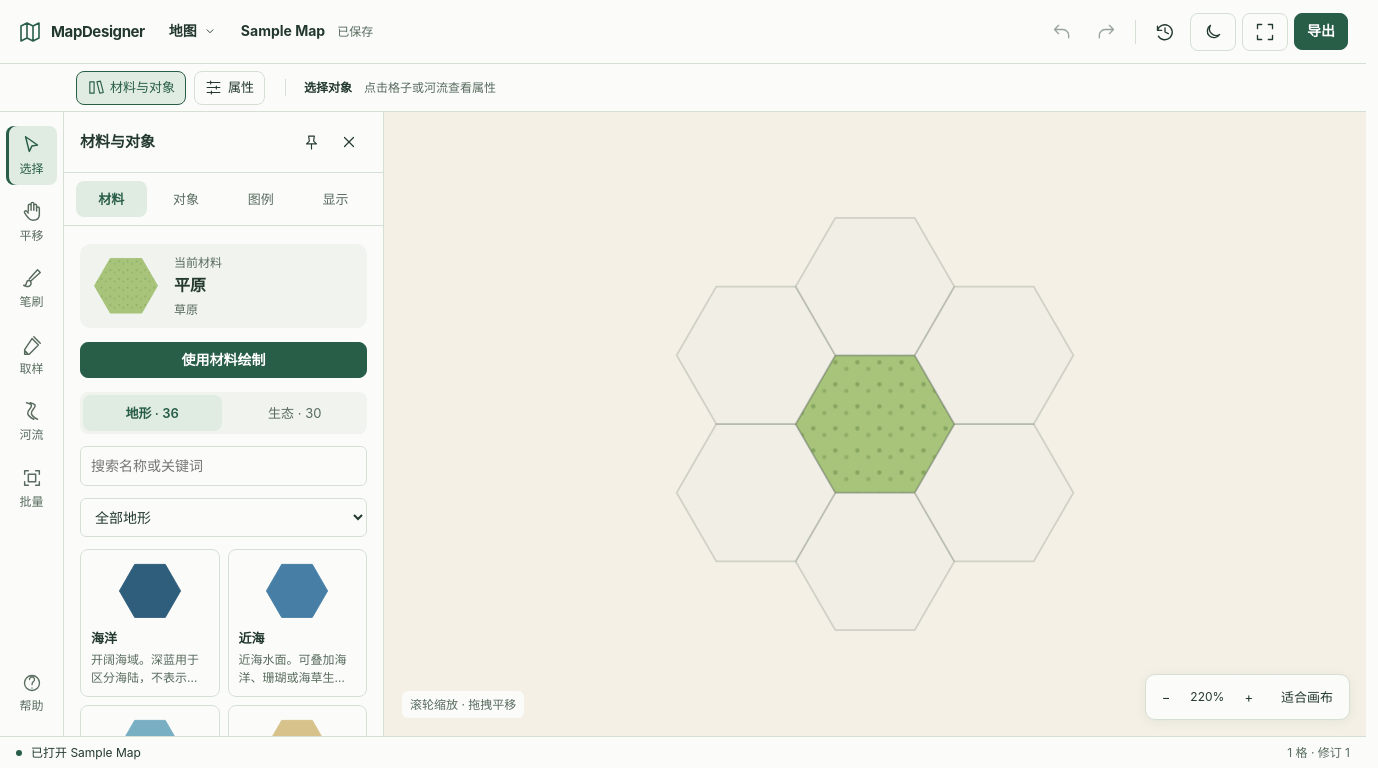
Test: App › creates a river overlay from the detail panel
This screenshot has width=1378, height=768.
Expected: the text "已打开 Sample Map" is shown, [31,744,141,761]
Click the button "河流".
click(32, 422)  # box [6,392,57,451]
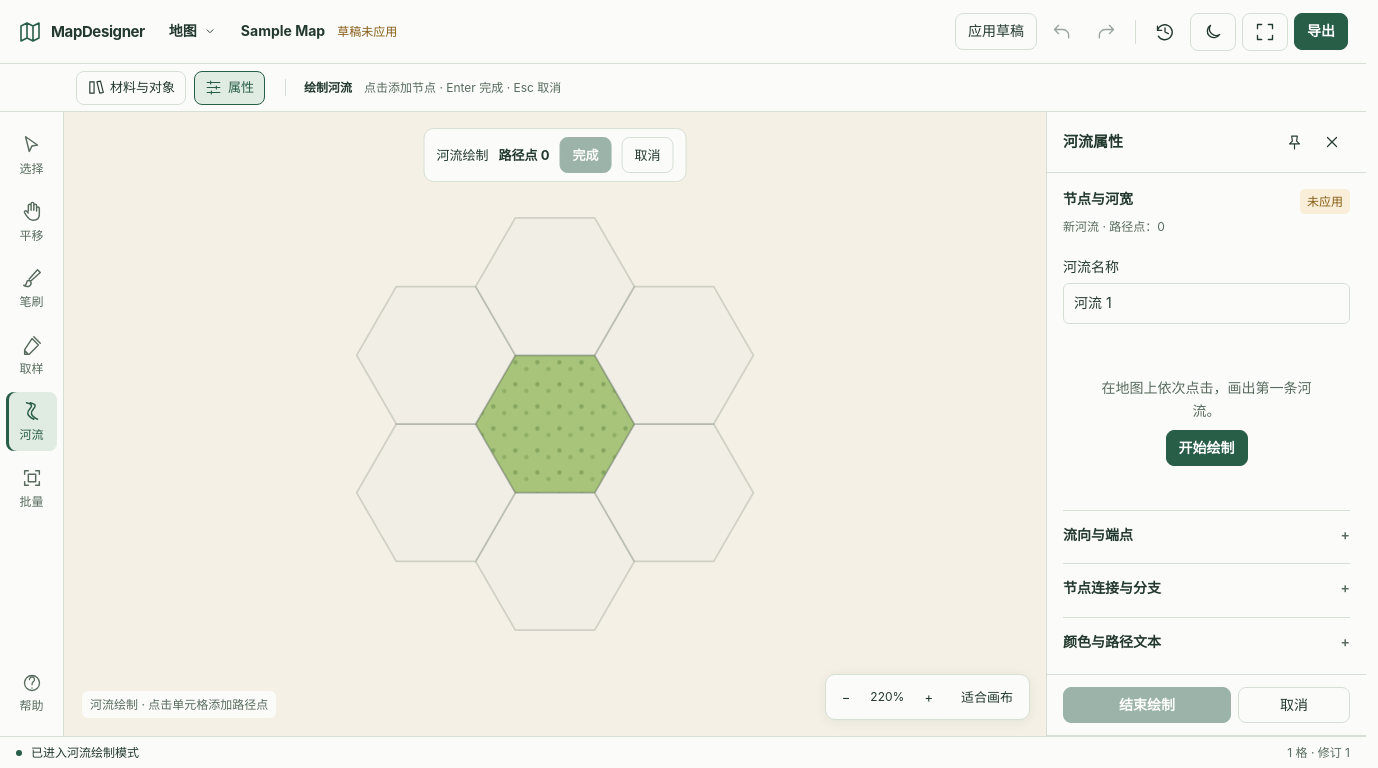
Click the 1st button "取消".
click(647, 155)  # box [621,137,673,173]
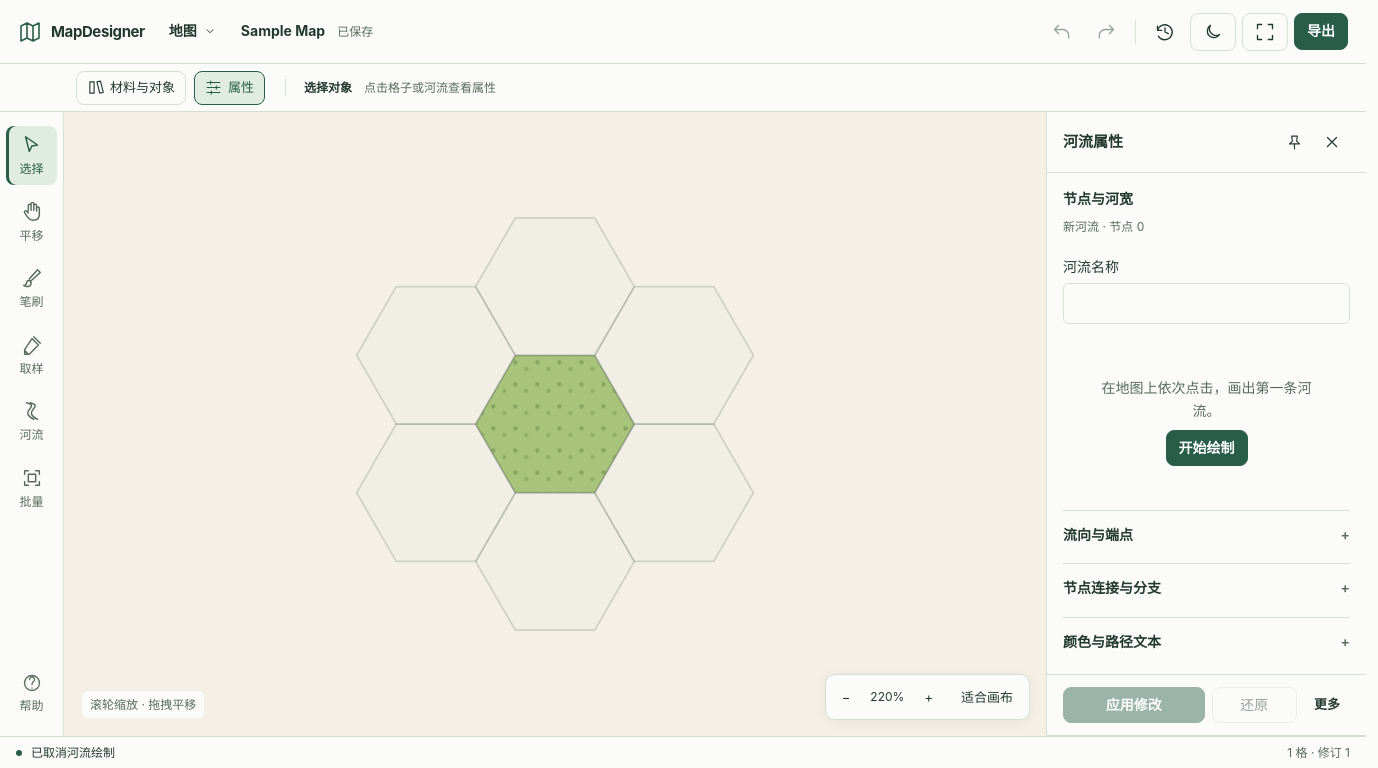
Expected: the element "节点与河宽" is shown, [1047,173,1366,736]
Type "Main River" into the field labelled "河流名称".
click(1206, 304); type("Main River")  # box [1063,283,1350,324]
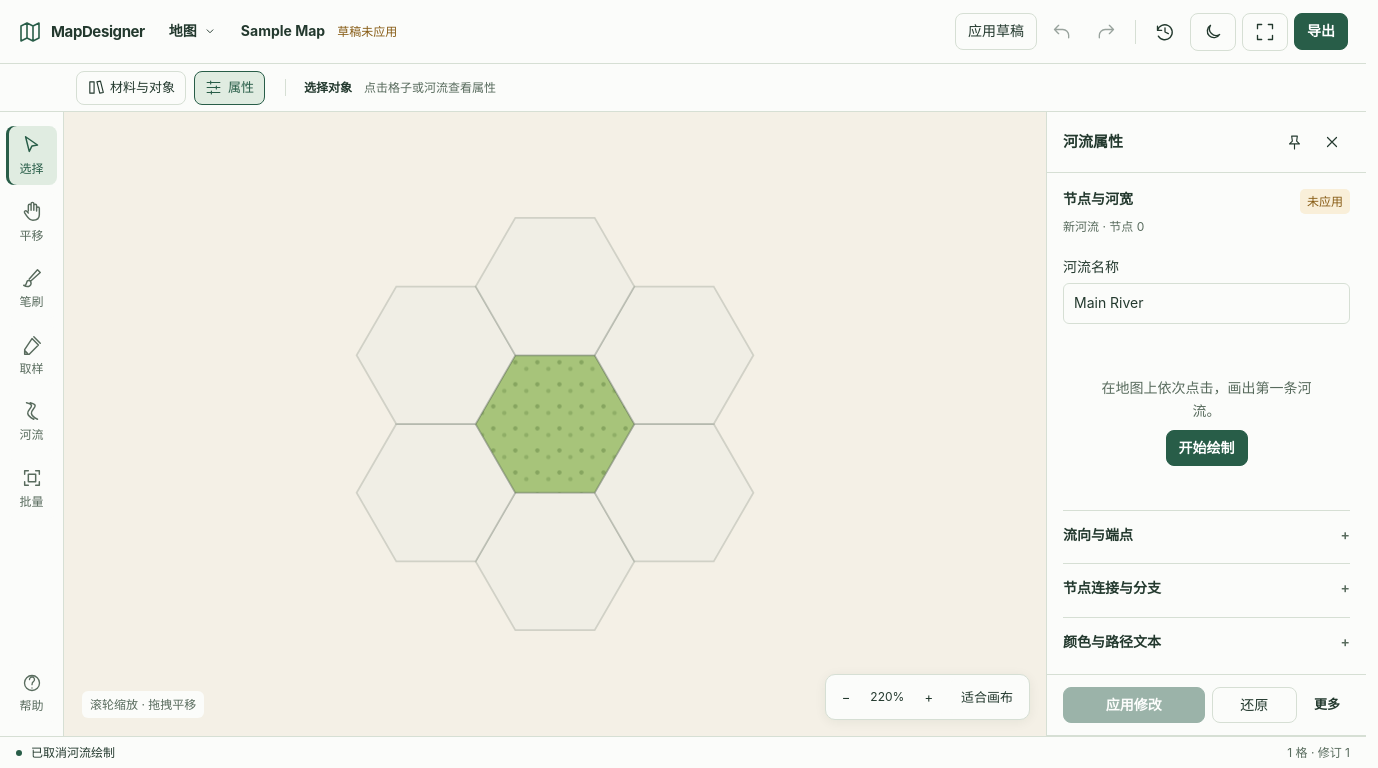
Click the heading "颜色与路径文本".
click(1112, 641)  # box [1063,633,1161,650]
(page scrolled)
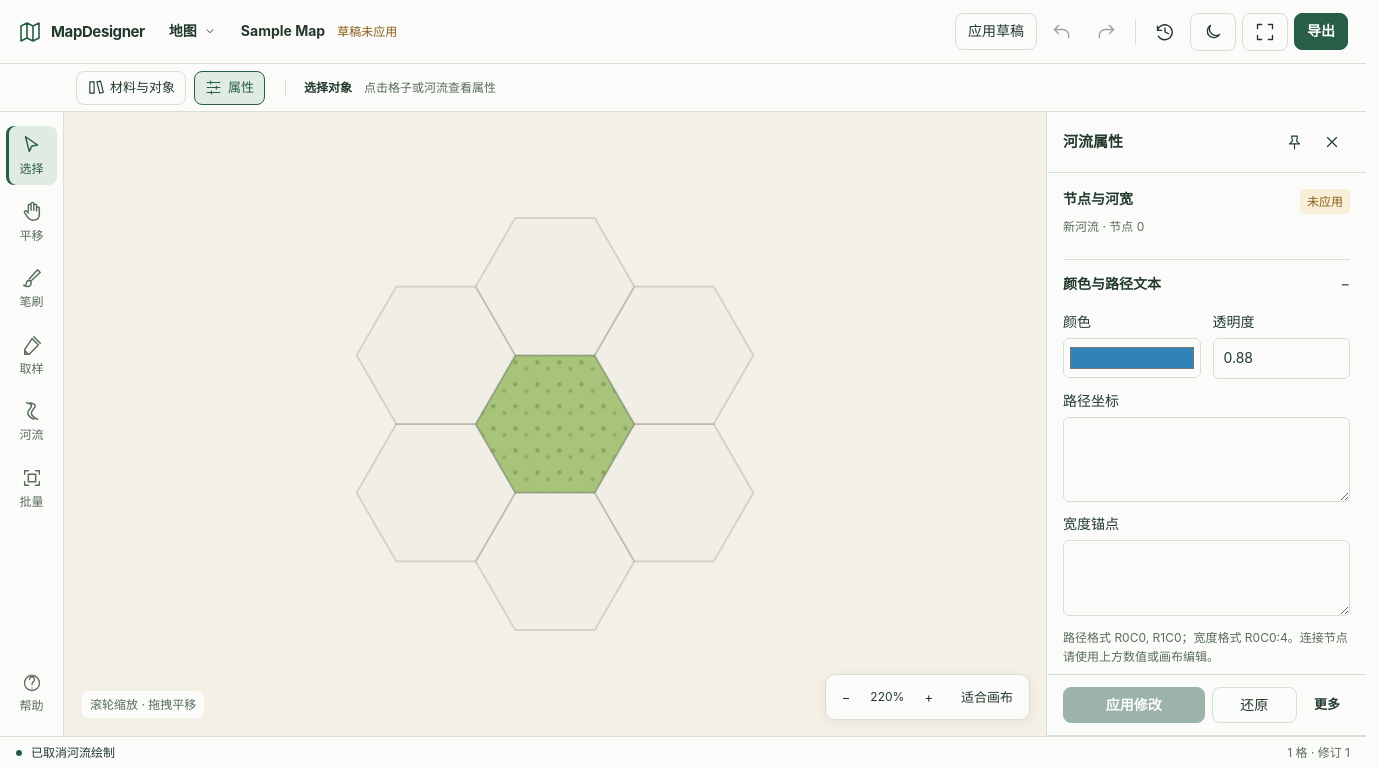
Type "R0C0, R0C2" into the text box labelled "路径坐标".
click(1206, 459); type("R0C0, R0C2")  # box [1063,417,1350,502]
(page scrolled)
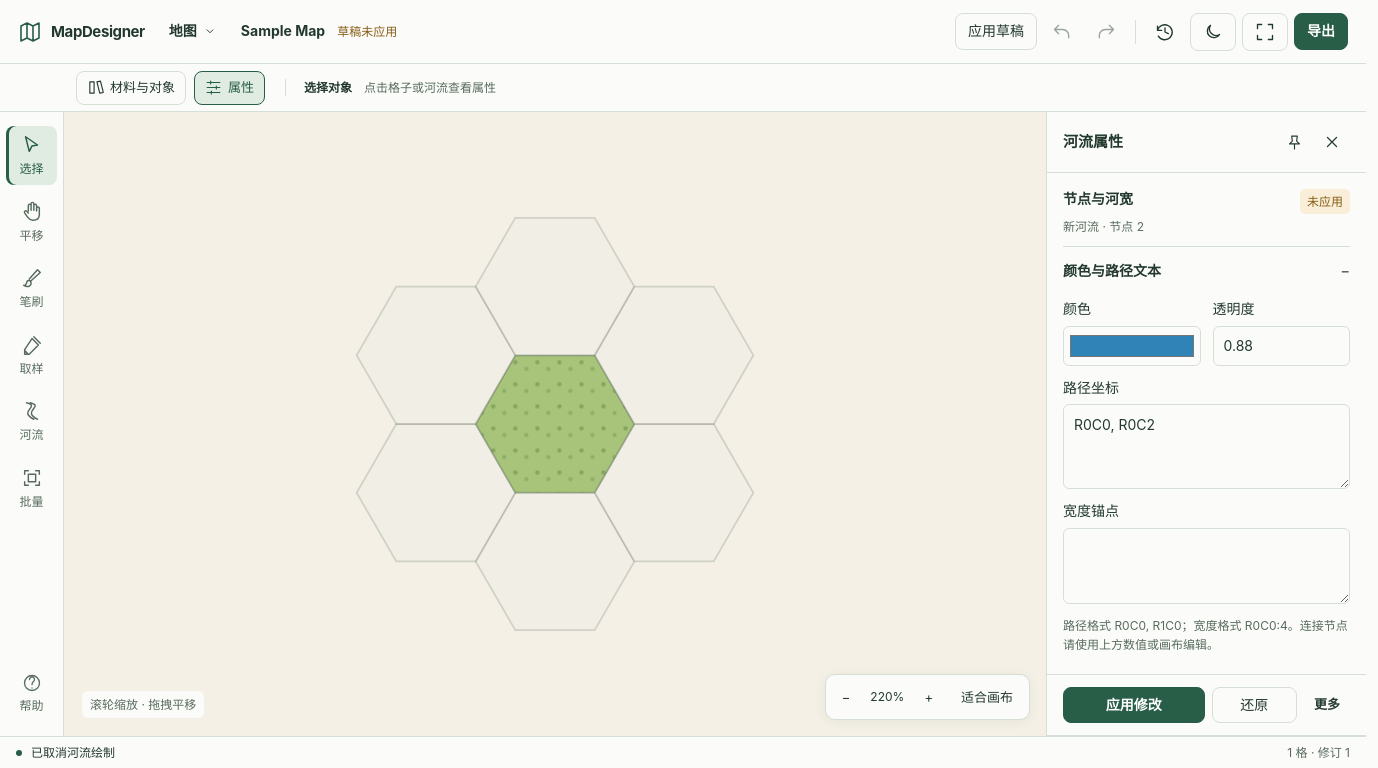
Type "R0C0:2, R0C1:5, R0C2:8" into the text box labelled "宽度锚点".
click(1206, 566); type("R0C0:2, R0C1:5, R0C2:8")  # box [1063,528,1350,604]
Click the button "应用修改".
click(1134, 705)  # box [1063,687,1204,723]
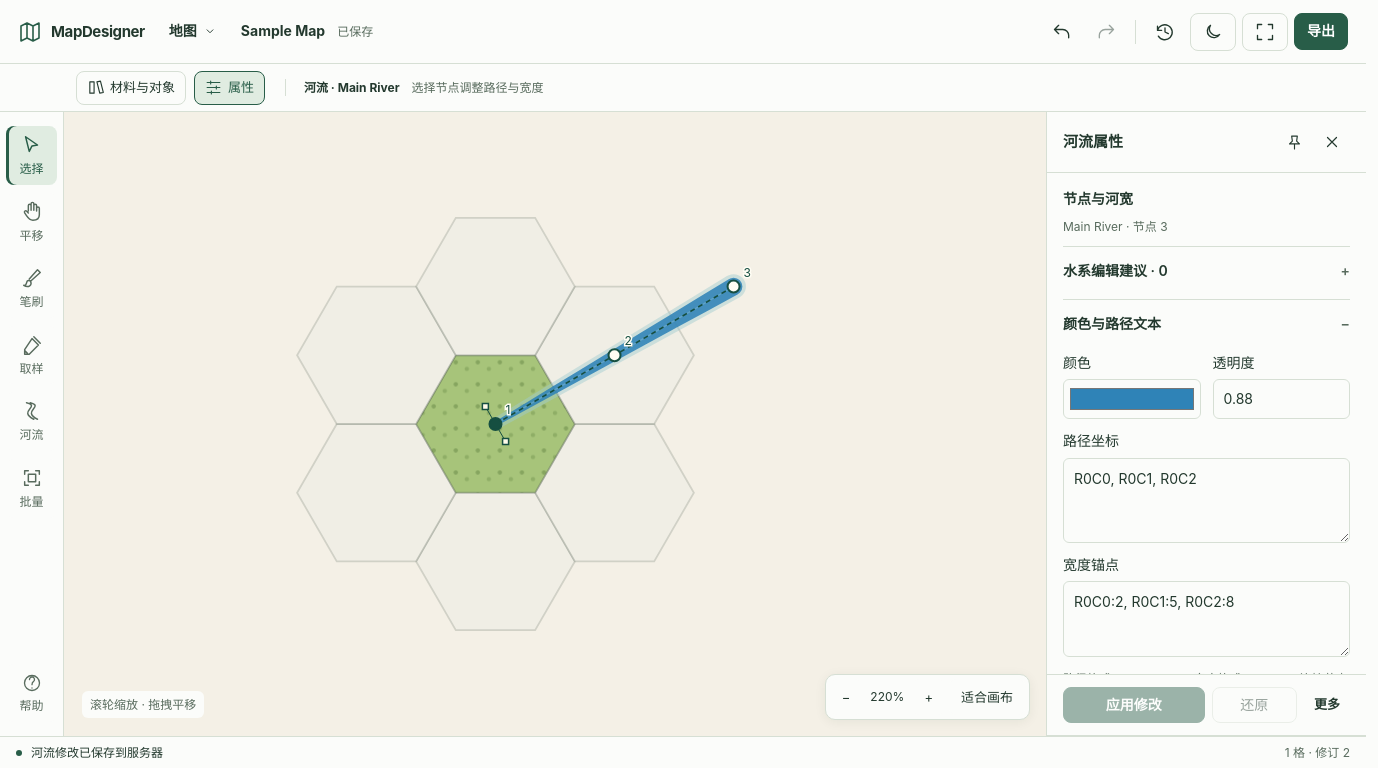
Expected: the text "河流修改已保存到服务器" is shown, [31,744,163,761]
